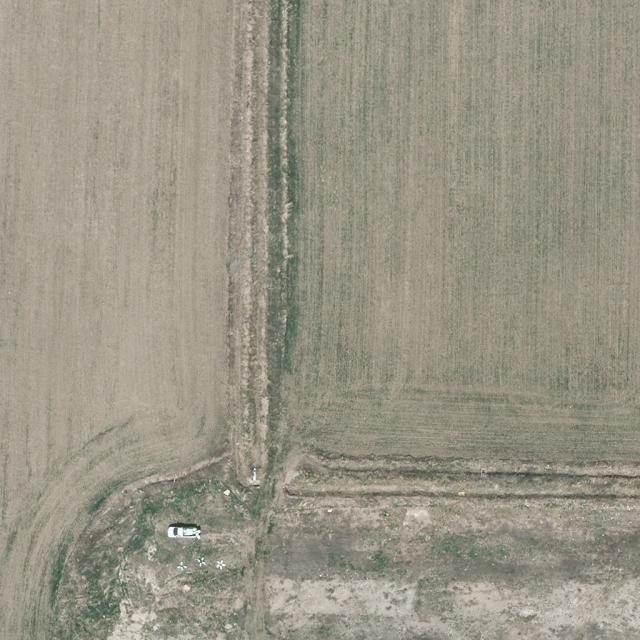vehicle: (167, 526, 198, 540)
